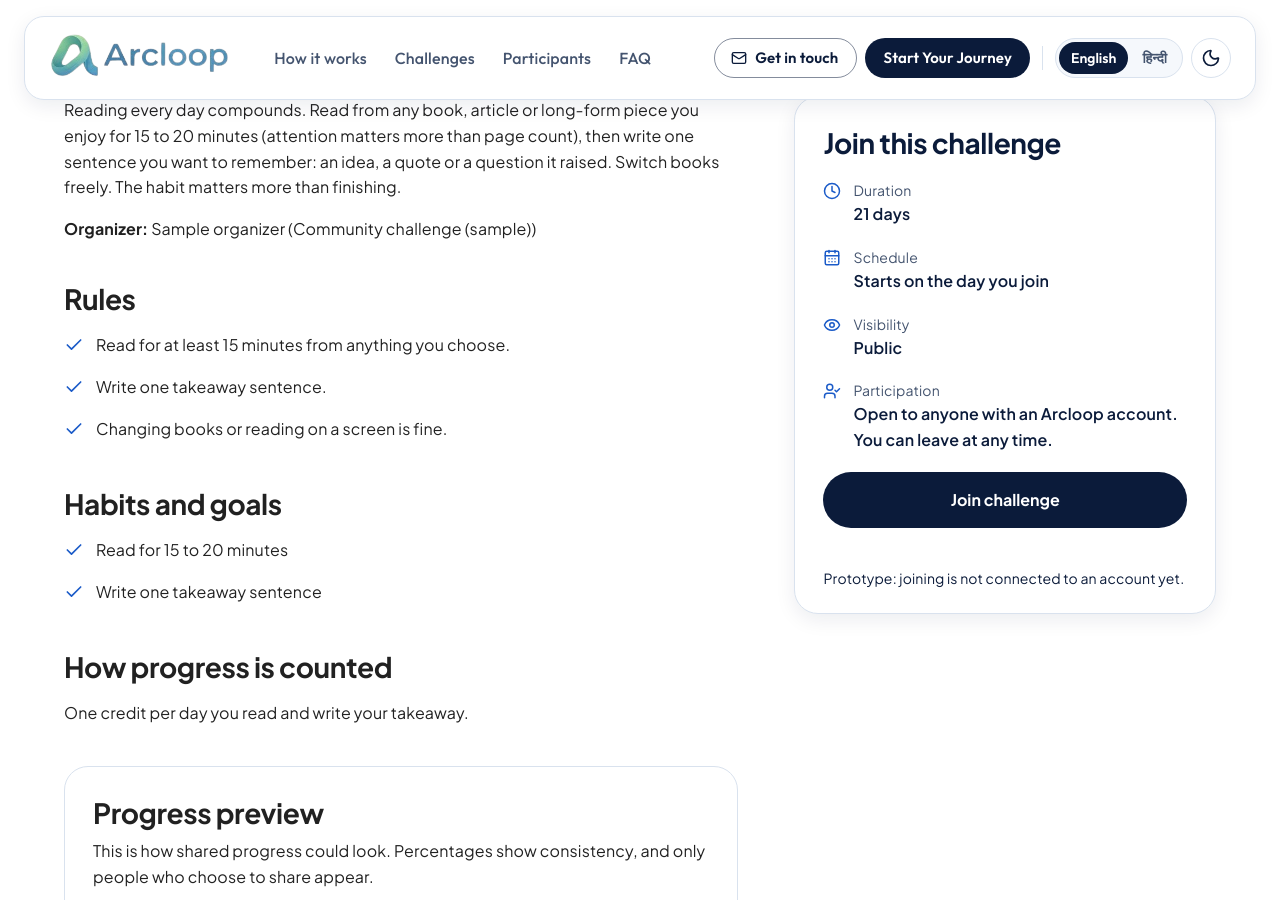
Test: The 26-challenge library on screen › join and leave still work as a prototype on a new challenge, and say nothing was saved
(page scrolled)
Click the button "Join challenge" at (1005, 500), box [824,472,1187,528]
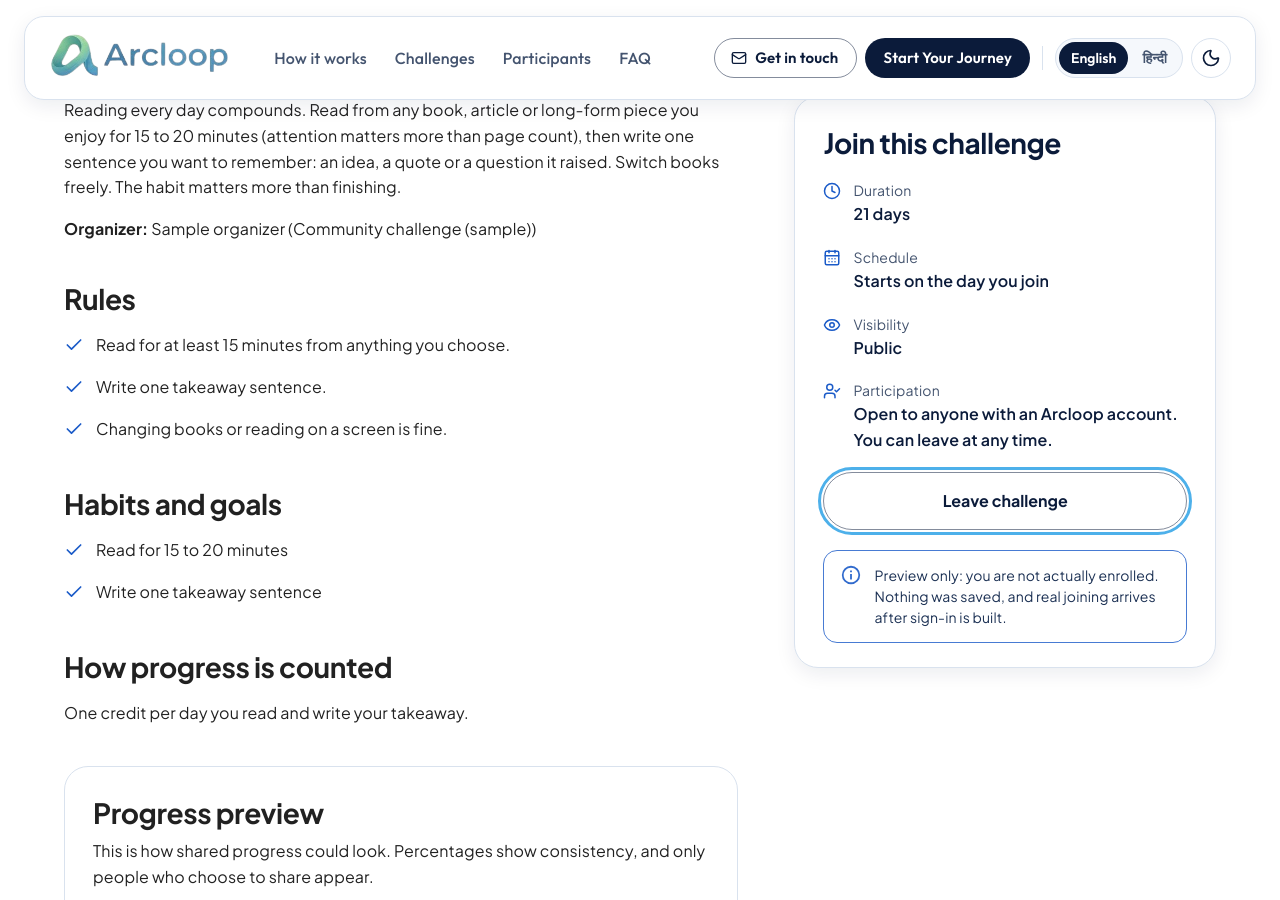
expect the text "not actually enrolled" is shown: met, box [874,566,1159,626]
Click the button "Leave challenge" at (1005, 501), box [824,472,1187,530]
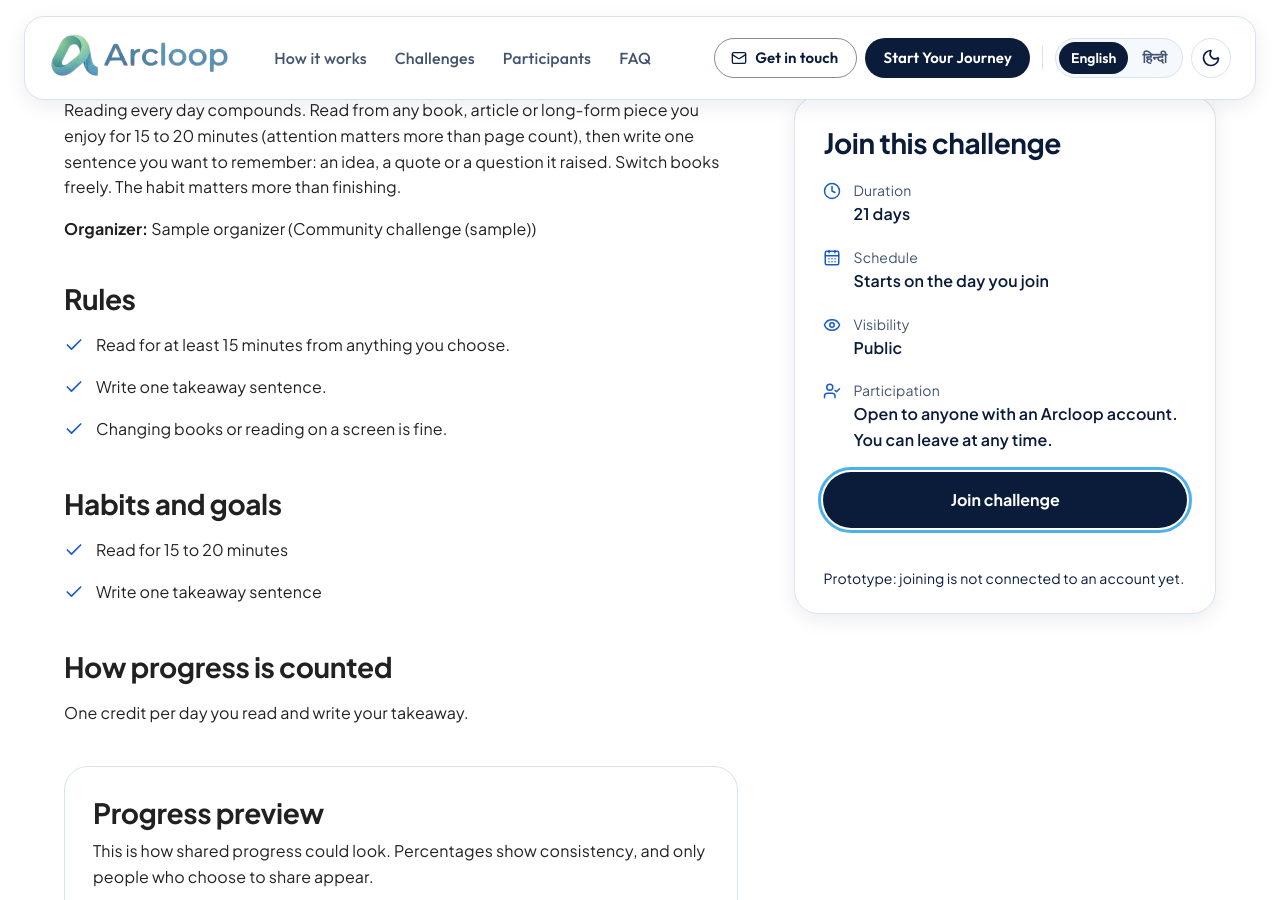
expect the button "Join challenge" is shown: met, box [824,472,1187,528]
expect the text "Prototype: joining is not connected to an account yet." is shown: met, box [824,568,1187,589]
